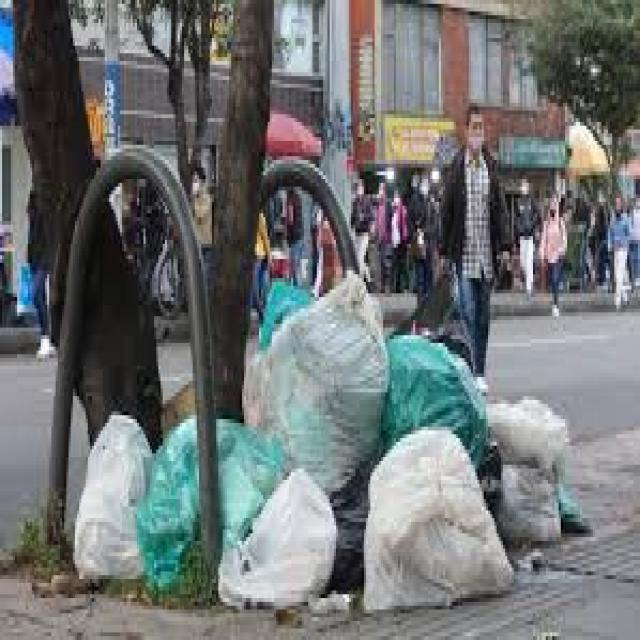garbage: (80, 262, 571, 608)
